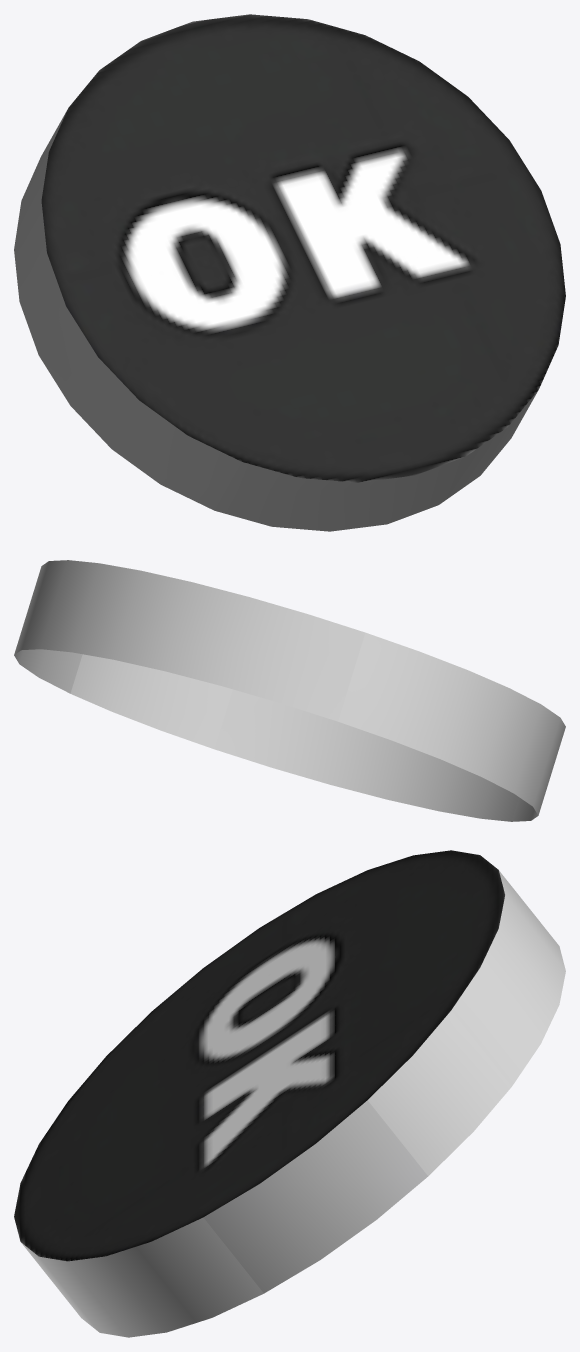
The model's file is SM_打印机_按钮.FBX.
3 renders of one model, top to bottom at view 1: azimuth 30°, elevation 25°; view 2: azimuth 150°, elevation 25°; view 3: azimuth 270°, elevation 25°, orthographic. The views are drawn at different scales.
Visible parts, largest first — view 1: SM_打印机_按钮; view 2: SM_打印机_按钮; view 3: SM_打印机_按钮.
Part boxes in pixels (<box>): SM_打印机_按钮: <box>14,14,565,531</box>; SM_打印机_按钮: <box>14,560,565,821</box>; SM_打印机_按钮: <box>14,850,565,1337</box>.
Bounding box in the file's own units: 11.68 × 8.46 × 10.64.
